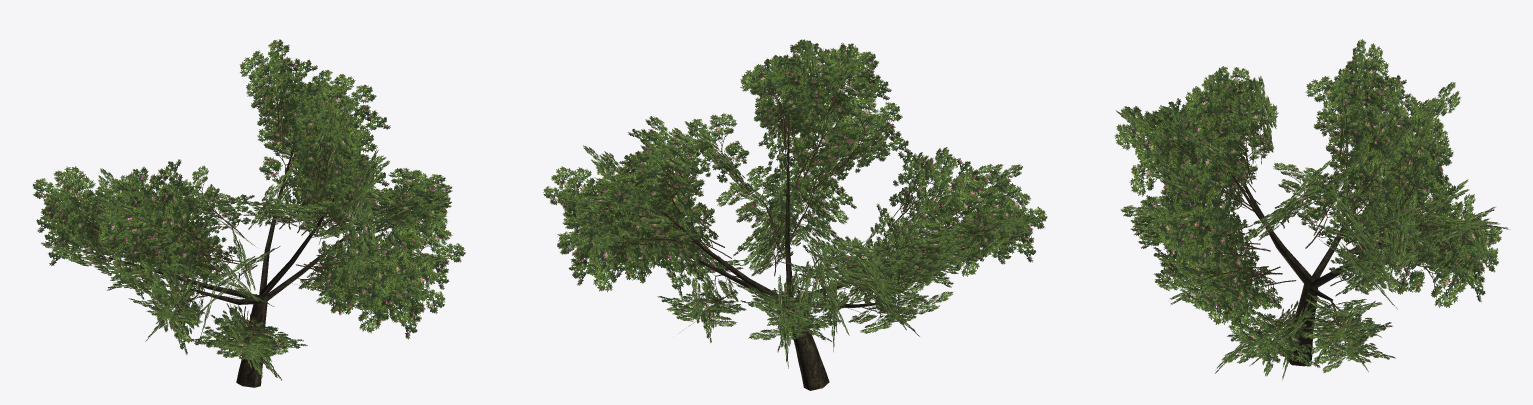
The model's file is swamp_b_lod1.glb.
The picture shows the model from 3 angles, left to right: view 1: azimuth 30°, elevation 25°; view 2: azimuth 150°, elevation 25°; view 3: azimuth 270°, elevation 25°; orthographic projection. The views are drawn at different scales.
Visible parts, largest first — view 1: swamp_b_lod1; view 2: swamp_b_lod1; view 3: swamp_b_lod1.
Boxes of the visible parts, x1,y1,x2,y2 form: swamp_b_lod1: (33,39,465,387); swamp_b_lod1: (543,39,1047,390); swamp_b_lod1: (1114,39,1510,379).
Size of the model in its own units: 15.83 by 11.13 by 12.7.
Materials: 2 (2 with a texture image).
